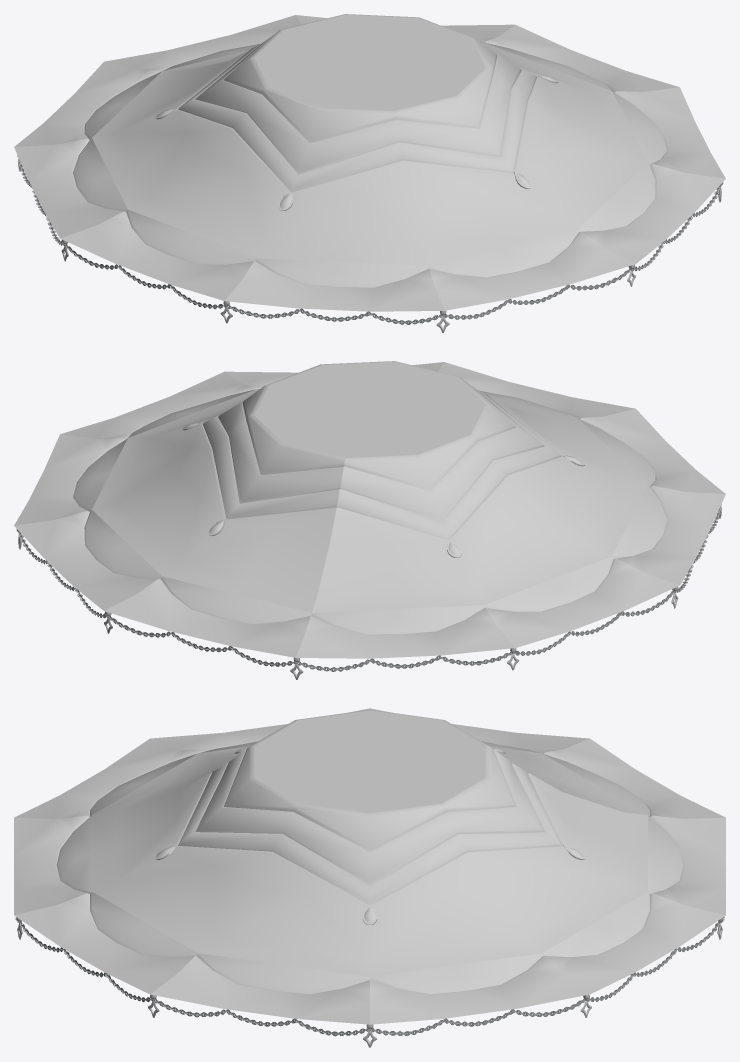
The model's file is astrobasecentera.dae.
The picture shows the model from 3 angles, top to bottom: view 1: azimuth 30°, elevation 25°; view 2: azimuth 150°, elevation 25°; view 3: azimuth 270°, elevation 25°; orthographic projection. The views are drawn at different scales.
Visible parts, largest first — view 1: n1b4, n0b3, n3b0, n2b1; view 2: n1b4, n0b3, n3b0, n2b1; view 3: n1b4, n0b3, n3b0, n2b1.
Boxes of the visible parts, box(x1,y1,x2,y2) form: n1b4: box(73, 33, 666, 287); n0b3: box(14, 14, 725, 311); n3b0: box(17, 155, 720, 324); n2b1: box(18, 75, 723, 332); n1b4: box(73, 380, 666, 634); n0b3: box(14, 361, 725, 658); n3b0: box(18, 504, 721, 671); n2b1: box(16, 422, 721, 679); n1b4: box(56, 741, 683, 994); n0b3: box(14, 708, 725, 1024); n3b0: box(15, 917, 724, 1036); n2b1: box(16, 750, 723, 1047).
Size of the model in its own units: 7866 by 1509 by 7482.
